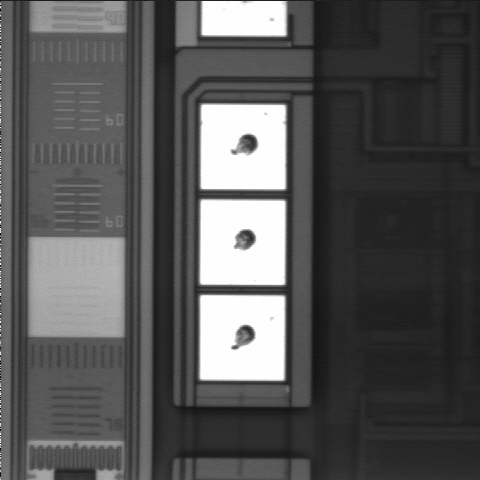pad: (200, 200, 285, 285), (200, 295, 285, 380), (201, 105, 286, 189)
